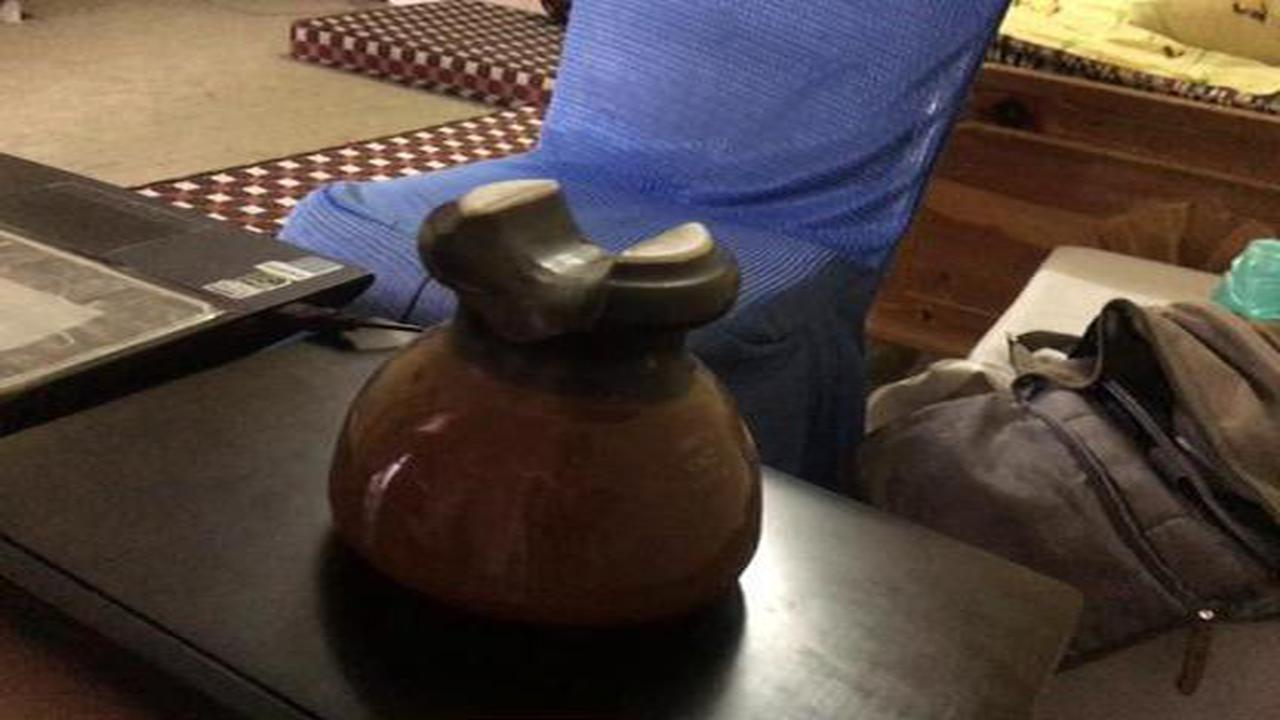insulator_pin: (316, 161, 776, 637)
